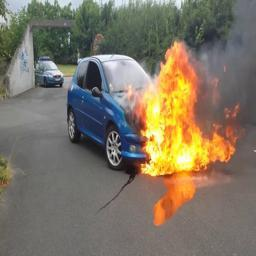fire: (127, 40, 242, 178)
